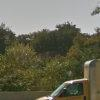Tree: (21, 18, 84, 75)
